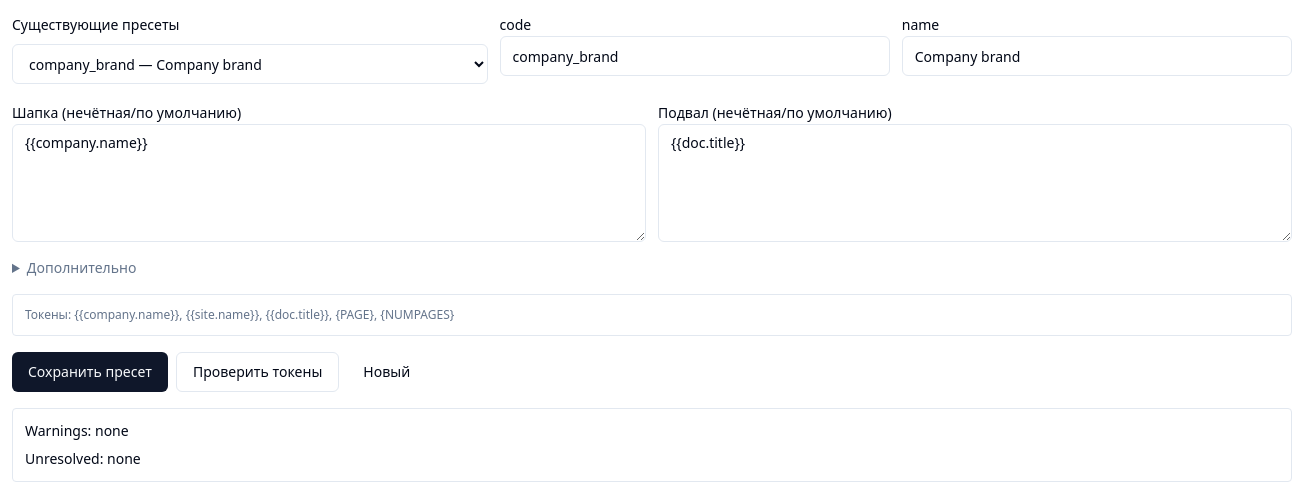
Test case: LayoutPresetEditor › shows unresolved token preview for current form
Check: the field showing "company_brand" below "code" is shown, box [500,36,890,76]
Click the button "Проверить токены": point(258, 372) [176,352,339,392]
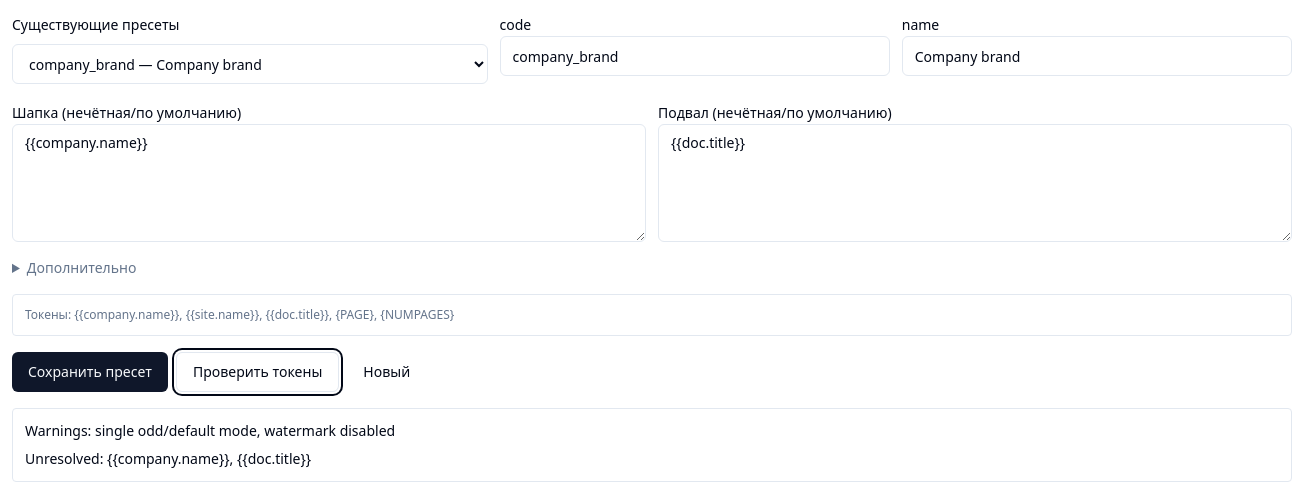
Check: the text "Warnings: single odd/default mode, watermark disabled" is shown, box [25,421,395,440]
Check: the text "Unresolved: {{company.name}}, {{doc.title}}" is shown, box [25,449,311,468]
